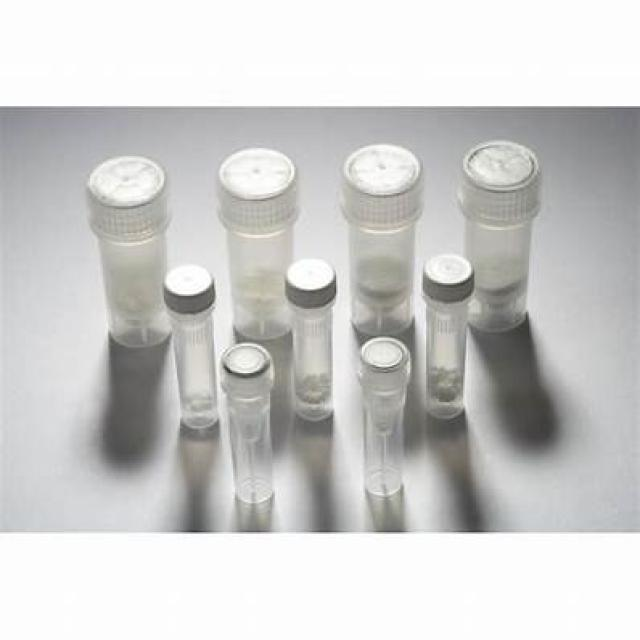vial: (458, 144, 564, 202), (336, 144, 428, 196), (217, 148, 303, 202), (90, 158, 169, 205), (217, 338, 275, 382), (160, 265, 218, 301), (360, 341, 410, 375), (418, 254, 474, 284), (284, 258, 328, 283)
